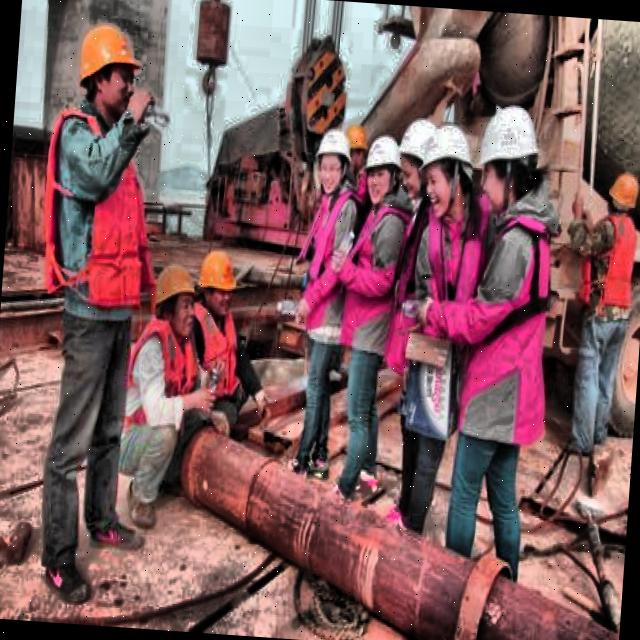helmet: (469, 99, 543, 220), (70, 17, 147, 123), (412, 119, 474, 219), (396, 112, 444, 200), (148, 262, 198, 336), (192, 242, 239, 318), (312, 124, 355, 196), (362, 132, 402, 202), (598, 165, 640, 229)
